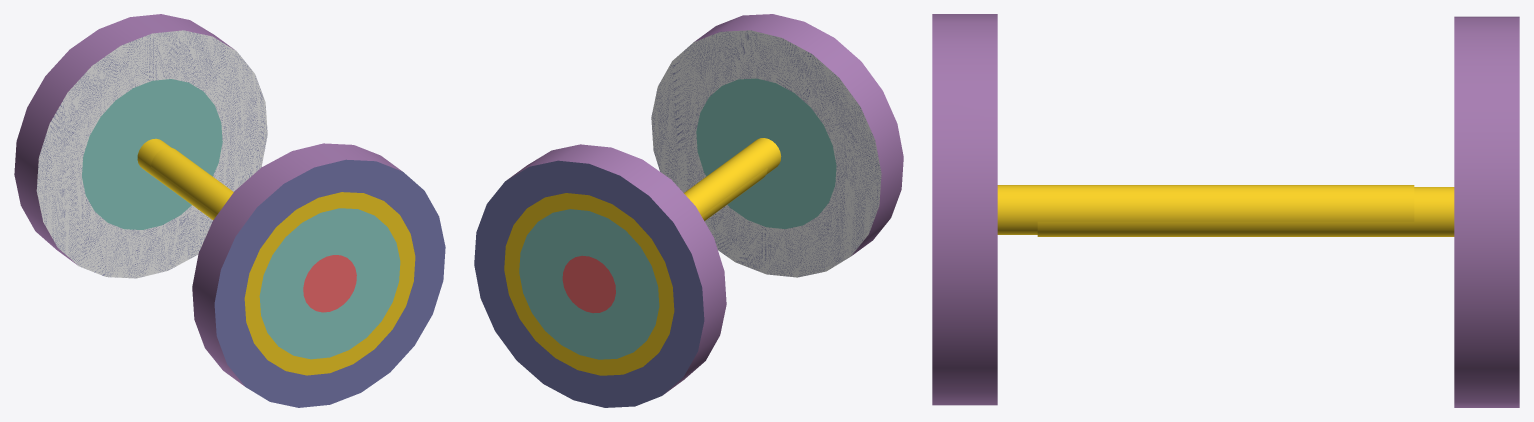
File: wheels.dae
3 renders of one model, left to right at view 1: azimuth 30°, elevation 25°; view 2: azimuth 150°, elevation 25°; view 3: azimuth 270°, elevation 25°, orthographic. The views are drawn at different scales.
Parts seen in each view (by area): view 1: instance_1 (×6), instance_2 (×4); view 2: instance_2 (×6), instance_1 (×4); view 3: instance_1 (×2), instance_2 (×2).
Boxes of the visible parts, x1,y1,x2,y2 form: instance_1 (×6): (151,143,445,407); instance_2 (×4): (14,14,267,278); instance_2 (×6): (474,144,767,407); instance_1 (×4): (651,14,903,277); instance_1 (×2): (932,14,1414,405); instance_2 (×2): (1037,16,1519,407).
Bounding box in the file's own units: 62.63 × 93.95 × 62.48.
